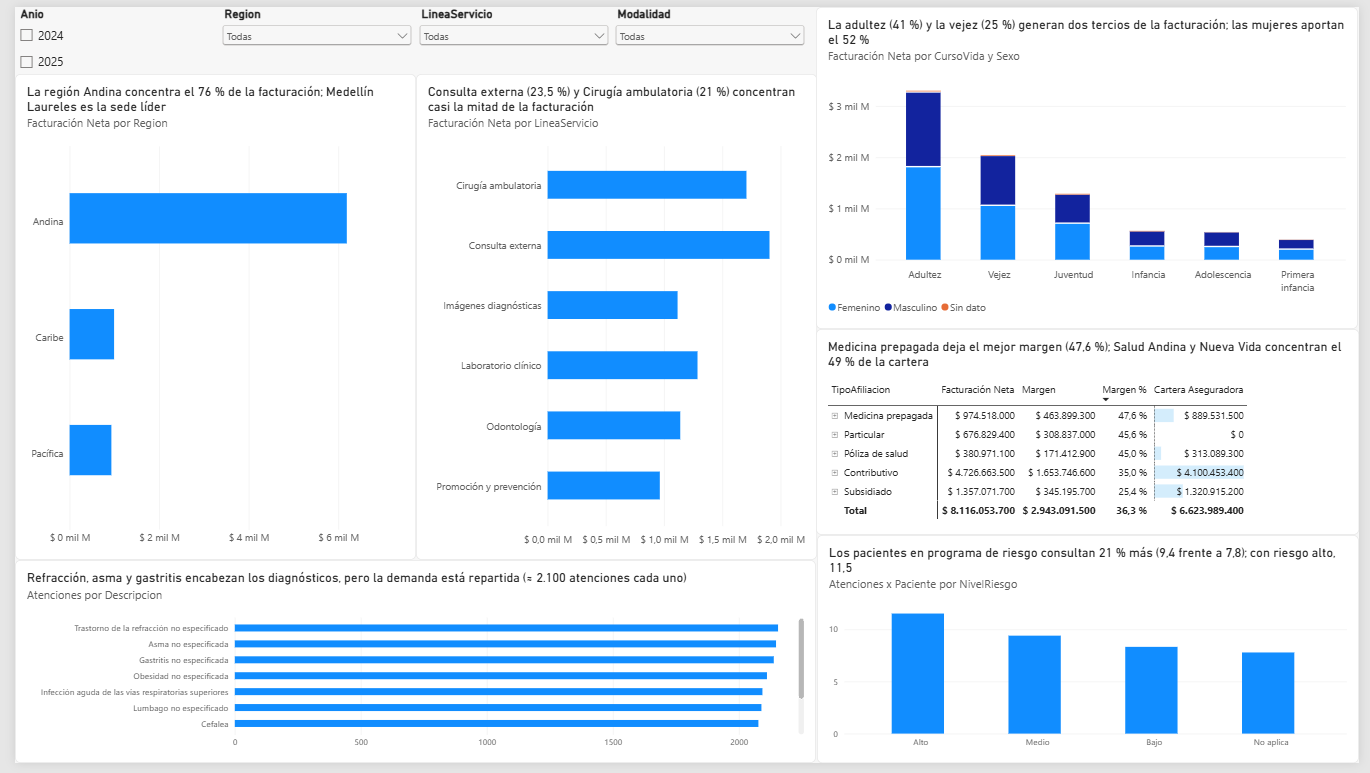

What the dashboard file says about the page in this screenshot:
{"tool":"powerbi","page":{"name":"Pacientes, servicios y territorio","canvas":[1920,1080],"ordinal":1},"visuals":[{"type":"slicer","fields":{"Values":["DIM_Sede.Region"]},"box":[291.2,0,280,105],"z":0},{"type":"slicer","fields":{"Values":["DIM_Servicio.LineaServicio"]},"box":[572.5,0,280,105],"z":1000},{"type":"slicer","fields":{"Values":["DIM_Modalidad.Modalidad"]},"box":[852.5,0,280,96.2],"z":2000},{"type":"slicer","fields":{"Values":["DIM_Tiempo.Anio"]},"box":[0,0,291.2,105],"z":3000},{"type":"clusteredBarChart","title":"La región Andina concentra el 76 % de la facturación; Medellín Laureles es la sede líder","fields":{"Category":["DIM_Sede.Region","DIM_Sede.Departamento","DIM_Sede.NombreSede"],"Y":["_Medidas.Facturación Neta"]},"box":[0,95.7,572.9,694.3],"z":4000},{"type":"clusteredBarChart","title":"Consulta externa (23,5 %) y Cirugía ambulatoria (21 %) concentran casi la mitad de la facturación","fields":{"Category":["DIM_Servicio.LineaServicio","DIM_Servicio.Especialidad"],"Y":["_Medidas.Facturación Neta"]},"box":[572.9,95.7,572.9,694.3],"z":5000},{"type":"columnChart","title":"La adultez (41 %) y la vejez (25 %) generan dos tercios de la facturación; las mujeres aportan el 52 %","fields":{"Category":["DIM_Paciente.CursoVida"],"Series":["DIM_Paciente.Sexo"],"Y":["_Medidas.Facturación Neta"]},"box":[1144.3,0,774.3,460],"z":6000},{"type":"pivotTable","title":"Medicina prepagada deja el mejor margen (47,6 %); Salud Andina y Nueva Vida concentran el 49 % de la cartera","fields":{"Rows":["DIM_Aseguradora.TipoAfiliacion","DIM_Aseguradora.NombreAseguradora"],"Values":["_Medidas.Facturación Neta","_Medidas.Margen","_Medidas.Margen %","_Medidas.Cartera Aseguradora"]},"box":[1144.3,460,775.7,294.3],"z":7000},{"type":"clusteredColumnChart","title":"Los pacientes en programa de riesgo consultan 21 % más (9,4 frente a 7,8); con riesgo alto, 11,5","fields":{"Category":["DIM_Paciente.NivelRiesgo"],"Y":["_Medidas.Atenciones x Paciente"]},"box":[1145.7,754.3,774.3,325.7],"z":8000},{"type":"clusteredBarChart","title":"Refracción, asma y gastritis encabezan los diagnósticos, pero la demanda está repartida (≈ 2.100 atenciones cada uno)","fields":{"Category":["DIM_Diagnostico.Descripcion"],"Y":["_Medidas.Atenciones"]},"box":[0,790,1144.3,290],"z":8001}]}

Visuals, with their boxes in screenshot pixels (x1, y1, x2, y2), scaled from the page's 1920x1080 canvas onto the 1370x773 screenshot:
slicer - DIM_Sede.Region: 208 0 408 75
slicer - DIM_Servicio.LineaServicio: 409 0 608 75
slicer - DIM_Modalidad.Modalidad: 608 0 808 69
slicer - DIM_Tiempo.Anio: 0 0 208 75
"La región Andina concentra el 76 % de la facturación; Medellín Laureles es la sede líder" clusteredBarChart: 0 68 409 565
"Consulta externa (23,5 %) y Cirugía ambulatoria (21 %) concentran casi la mitad de la facturación" clusteredBarChart: 409 68 818 565
"La adultez (41 %) y la vejez (25 %) generan dos tercios de la facturación; las mujeres aportan el 52 %" columnChart: 817 0 1369 329
"Medicina prepagada deja el mejor margen (47,6 %); Salud Andina y Nueva Vida concentran el 49 % de la cartera" pivotTable: 817 329 1369 540
"Los pacientes en programa de riesgo consultan 21 % más (9,4 frente a 7,8); con riesgo alto, 11,5" clusteredColumnChart: 818 540 1369 772
"Refracción, asma y gastritis encabezan los diagnósticos, pero la demanda está repartida (≈ 2.100 atenciones cada uno)" clusteredBarChart: 0 565 817 772
